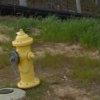Hydrant: (6, 23, 47, 100)
